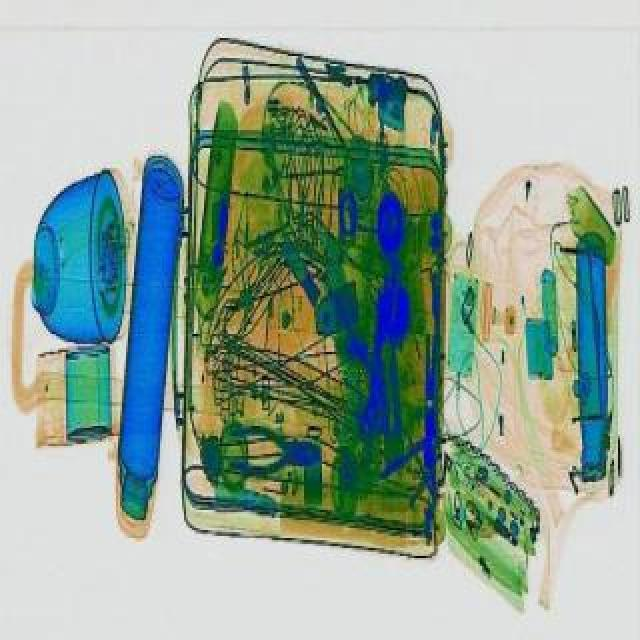scissors: (226, 422, 318, 474)
